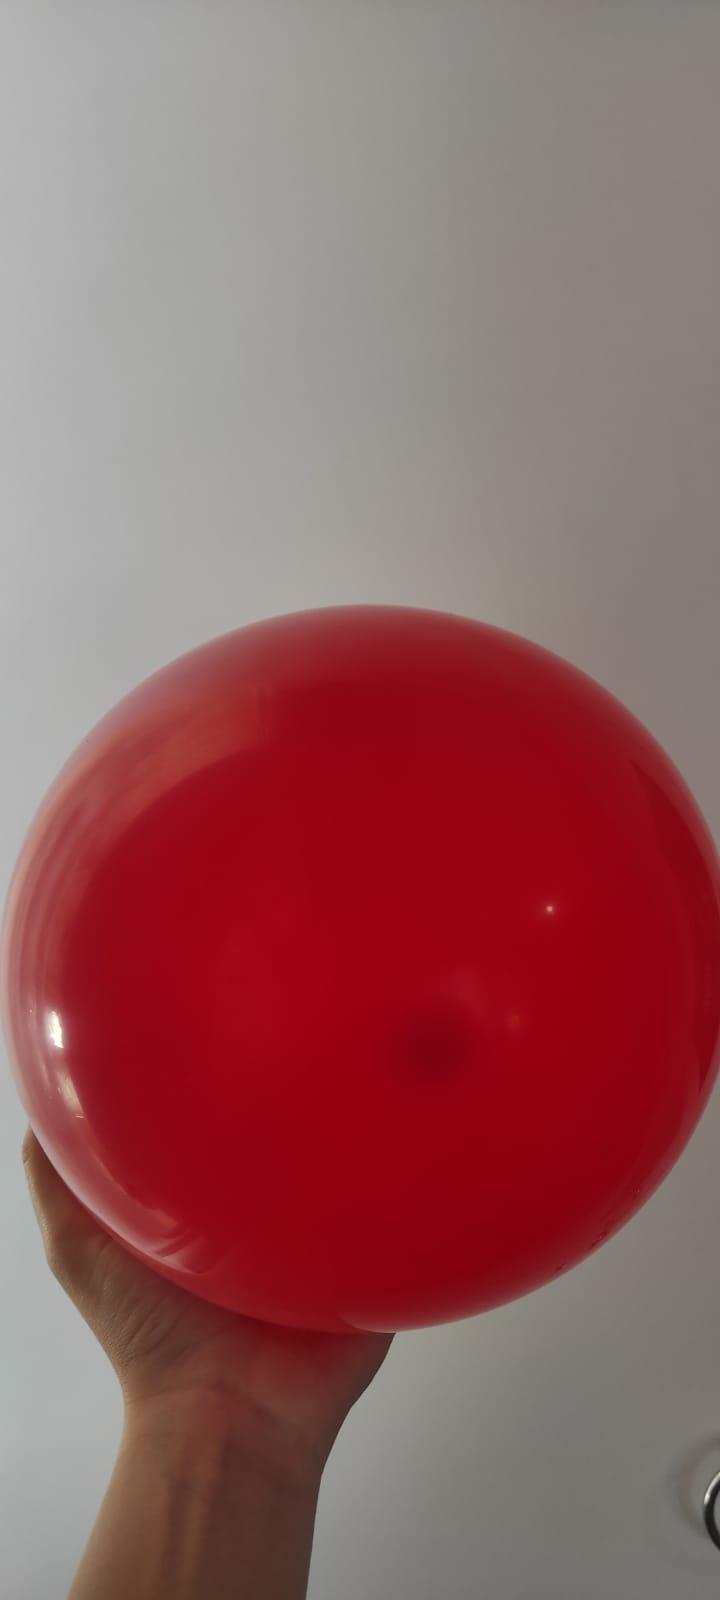red: (0, 591, 720, 1336)
